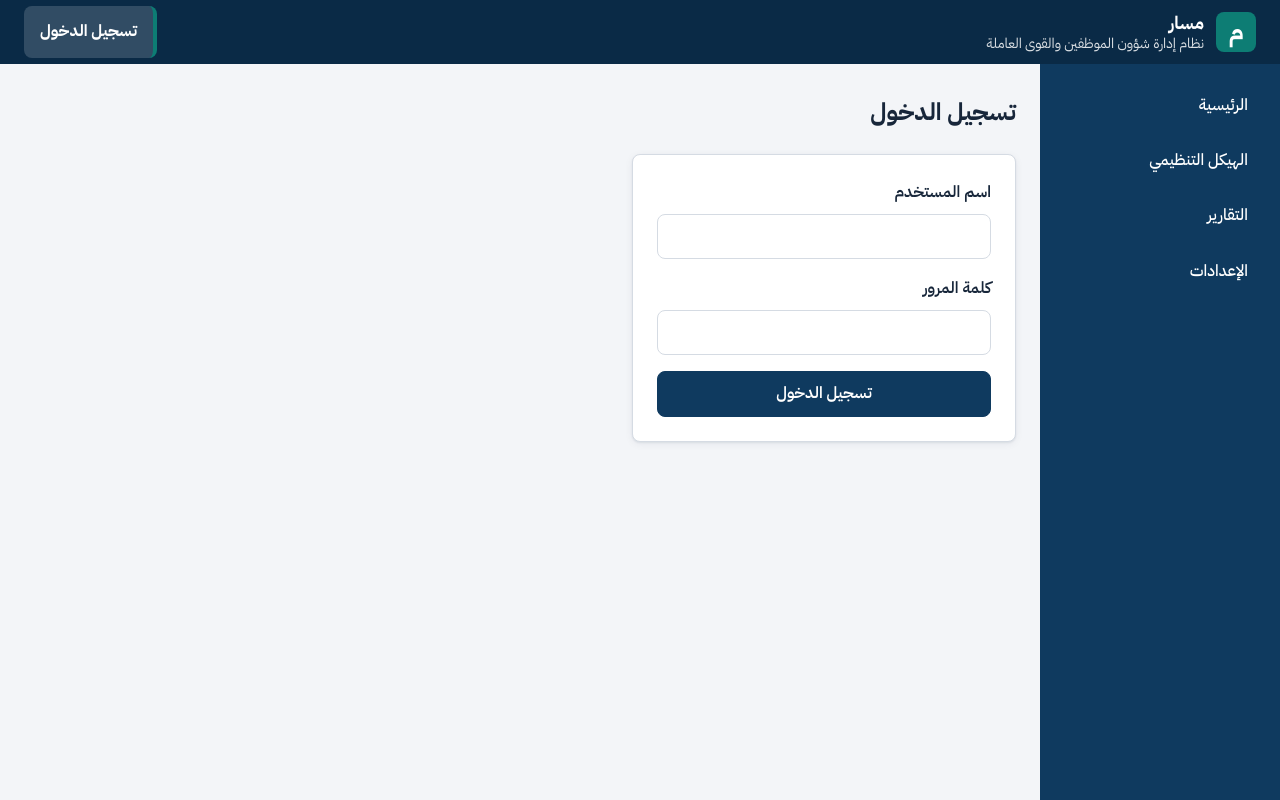
Test: authentication › shows a single generic message for both a wrong username and a wrong password
expect the heading "تسجيل الدخول" is shown: met, box [870,94,1016,130]
Type "nobody" into the field labelled "اسم المستخدم" at (824, 236), box [657,214,991,259]
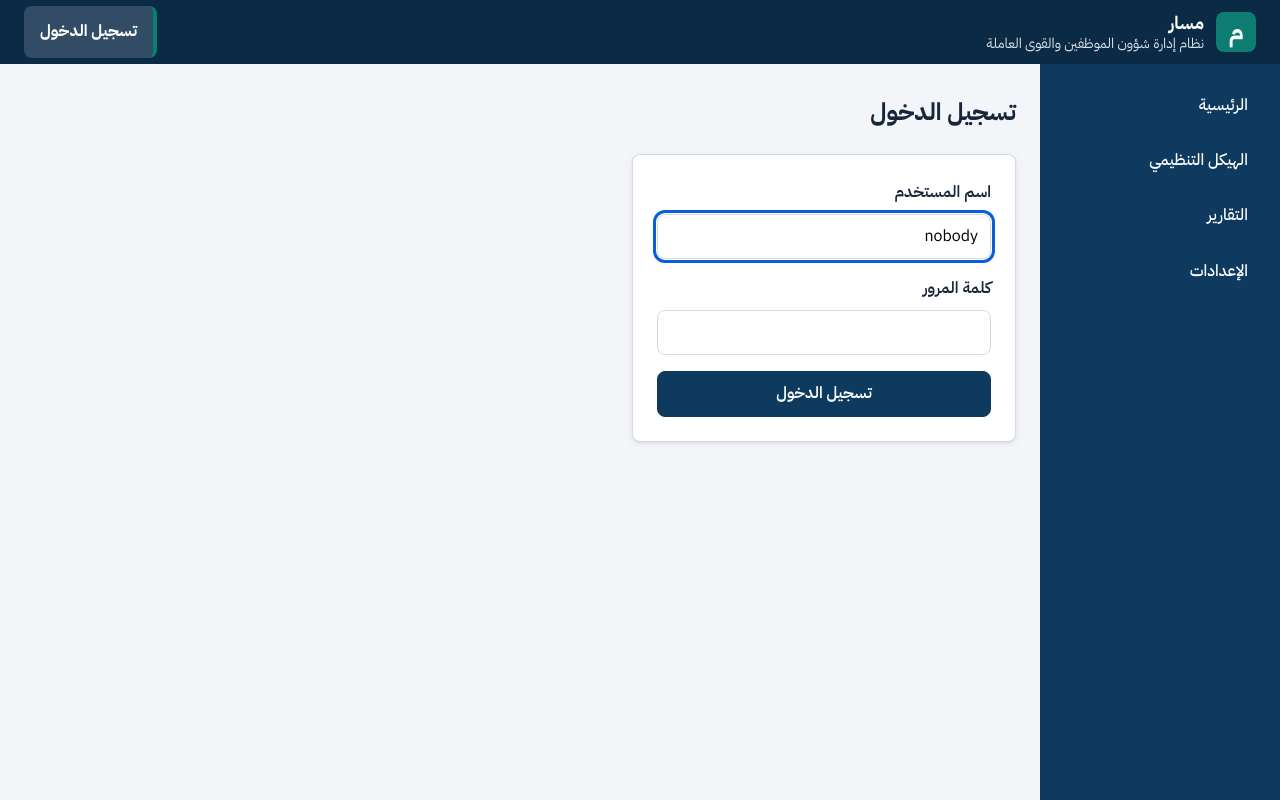
Type "wrong-password" into the password field labelled "كلمة المرور" at (824, 333), box [657,310,991,355]
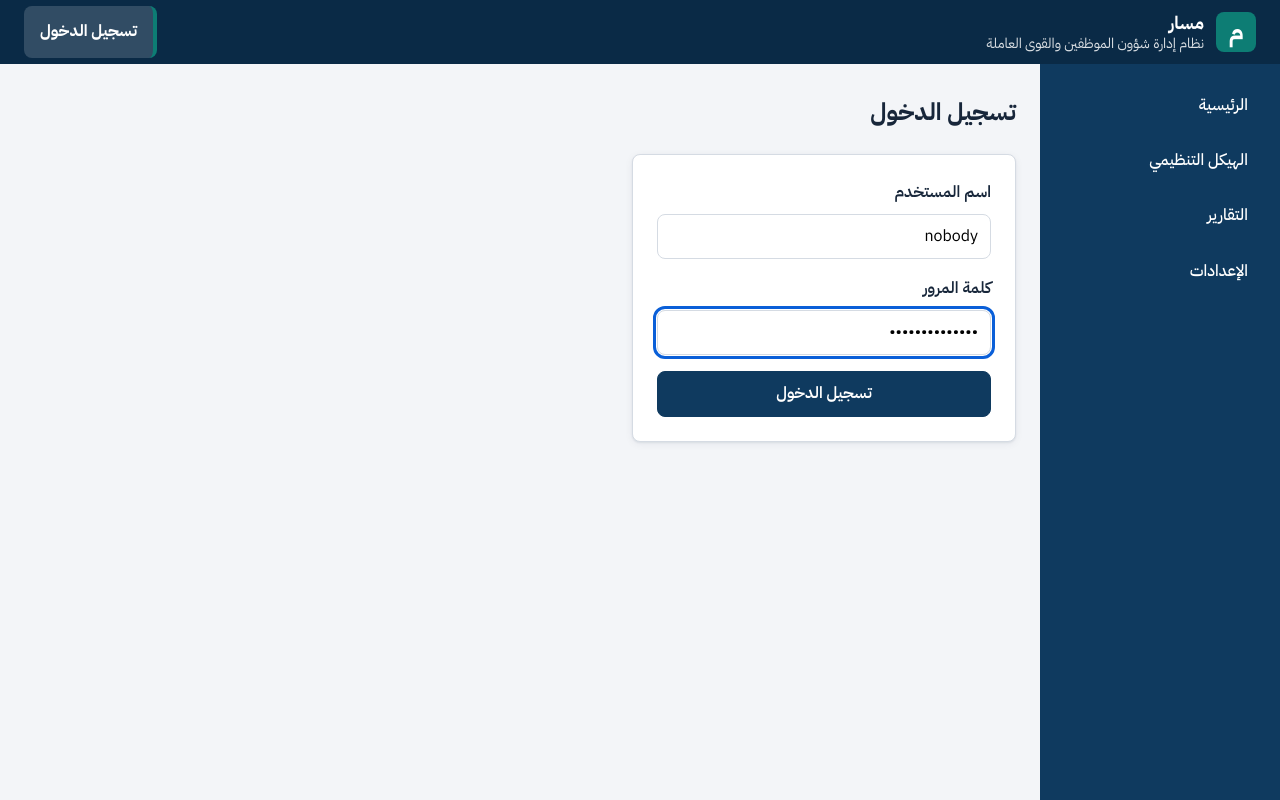
Click the button "تسجيل الدخول" at (824, 394), box [657,371,991,416]
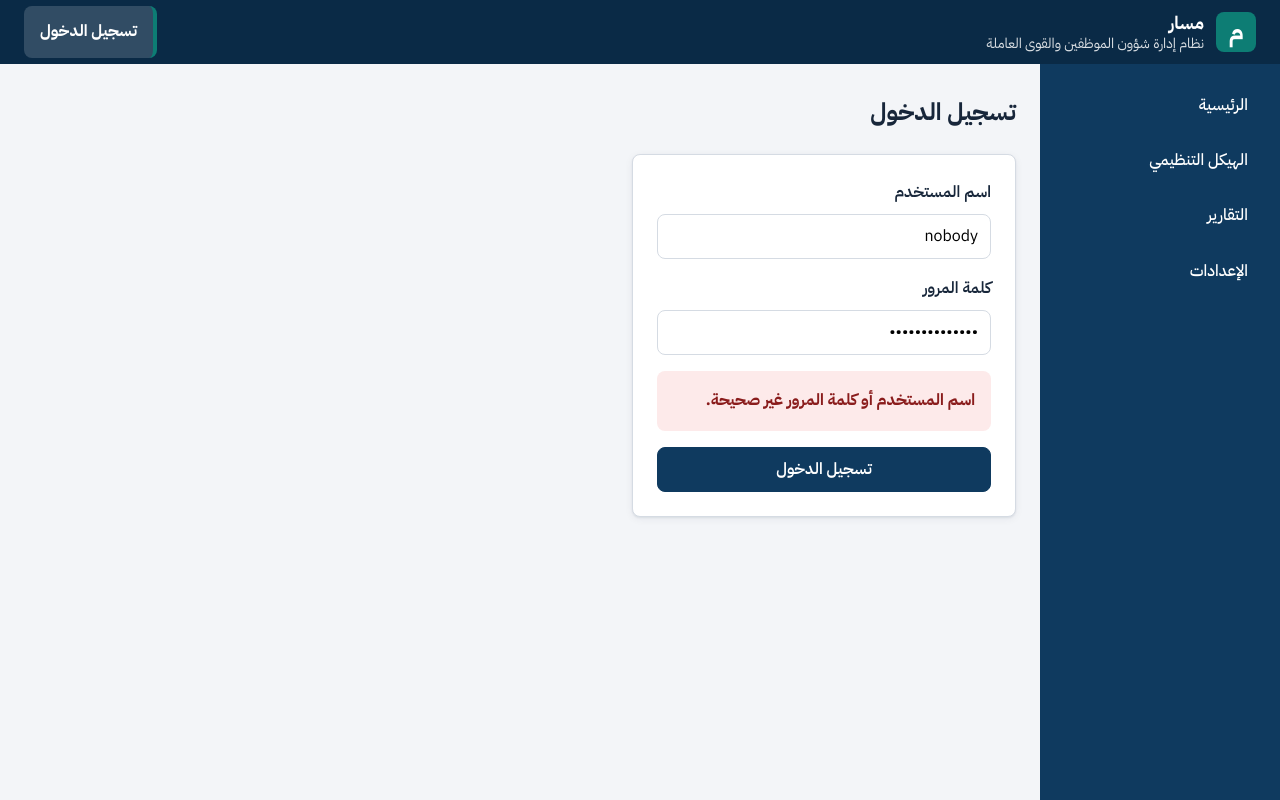
expect the message reads "اسم المستخدم أو كلمة المرور غير صحيحة.": met, box [706,388,975,412]
